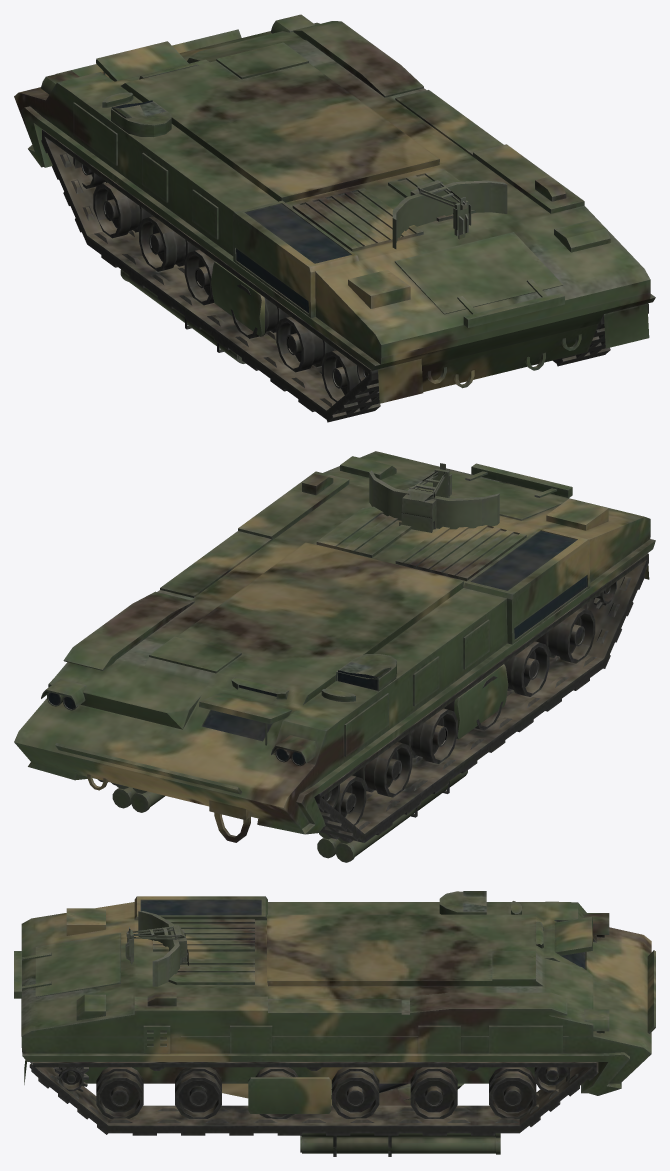
The model's file is tunguska.glb.
3 views of the same model, one above another, from view 1: azimuth 30°, elevation 25°; view 2: azimuth 150°, elevation 25°; view 3: azimuth 270°, elevation 25° (orthographic). The views are drawn at different scales.
Parts seen in each view (by area): view 1: body|TG_paint, radar|TG_paint, turret|TG_paint, cradle|TG_paint; view 2: body|TG_paint, radar|TG_paint, cradle|TG_paint, turret|TG_paint; view 3: body|TG_paint, cradle|TG_paint, turret|TG_paint, radar|TG_paint.
Part boxes in pixels (box(x1,y1,x2,y2)): body|TG_paint: box(14, 14, 655, 422); radar|TG_paint: box(392, 180, 507, 248); turret|TG_paint: box(211, 261, 264, 336); cradle|TG_paint: box(120, 269, 245, 363); body|TG_paint: box(14, 451, 655, 842); radar|TG_paint: box(369, 463, 499, 532); cradle|TG_paint: box(112, 770, 467, 862); turret|TG_paint: box(454, 664, 508, 739); body|TG_paint: box(14, 891, 655, 1135); cradle|TG_paint: box(300, 1083, 500, 1156); turret|TG_paint: box(222, 1077, 463, 1113); radar|TG_paint: box(125, 911, 188, 986).
Size of the model in its own units: 3.43 by 2.47 by 7.92.
Materials: 4 (4 with a texture image).
